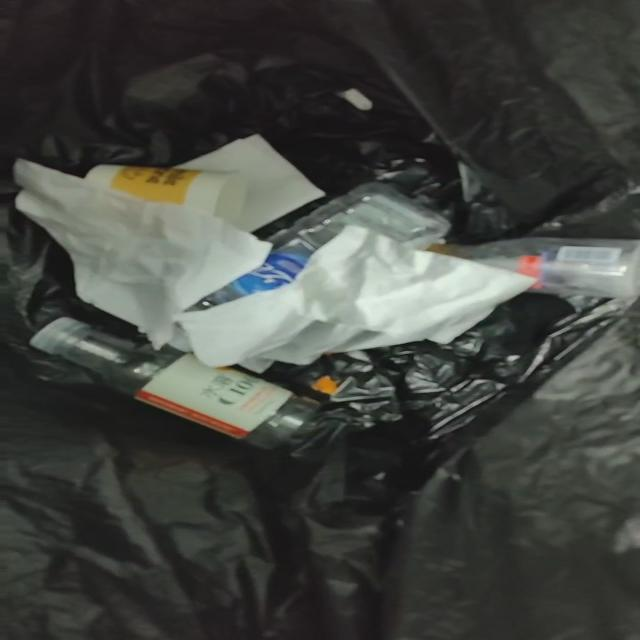bottle: (32, 320, 318, 446), (201, 185, 450, 306), (429, 238, 639, 300)
dixie_cup: (84, 166, 245, 226)
paper: (178, 226, 540, 367), (14, 160, 277, 351), (176, 135, 327, 232)
